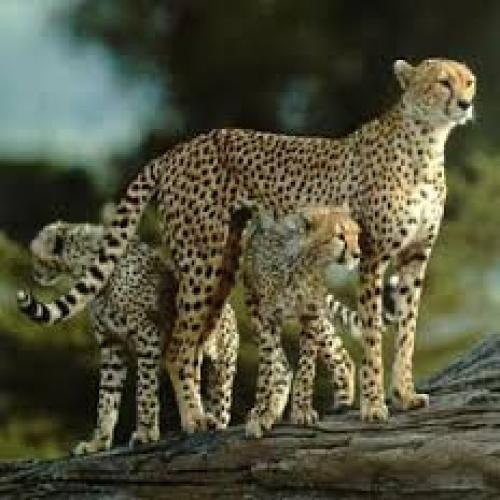cheetah-endangered: (64, 54, 476, 427), (32, 226, 230, 437), (241, 195, 362, 429)
